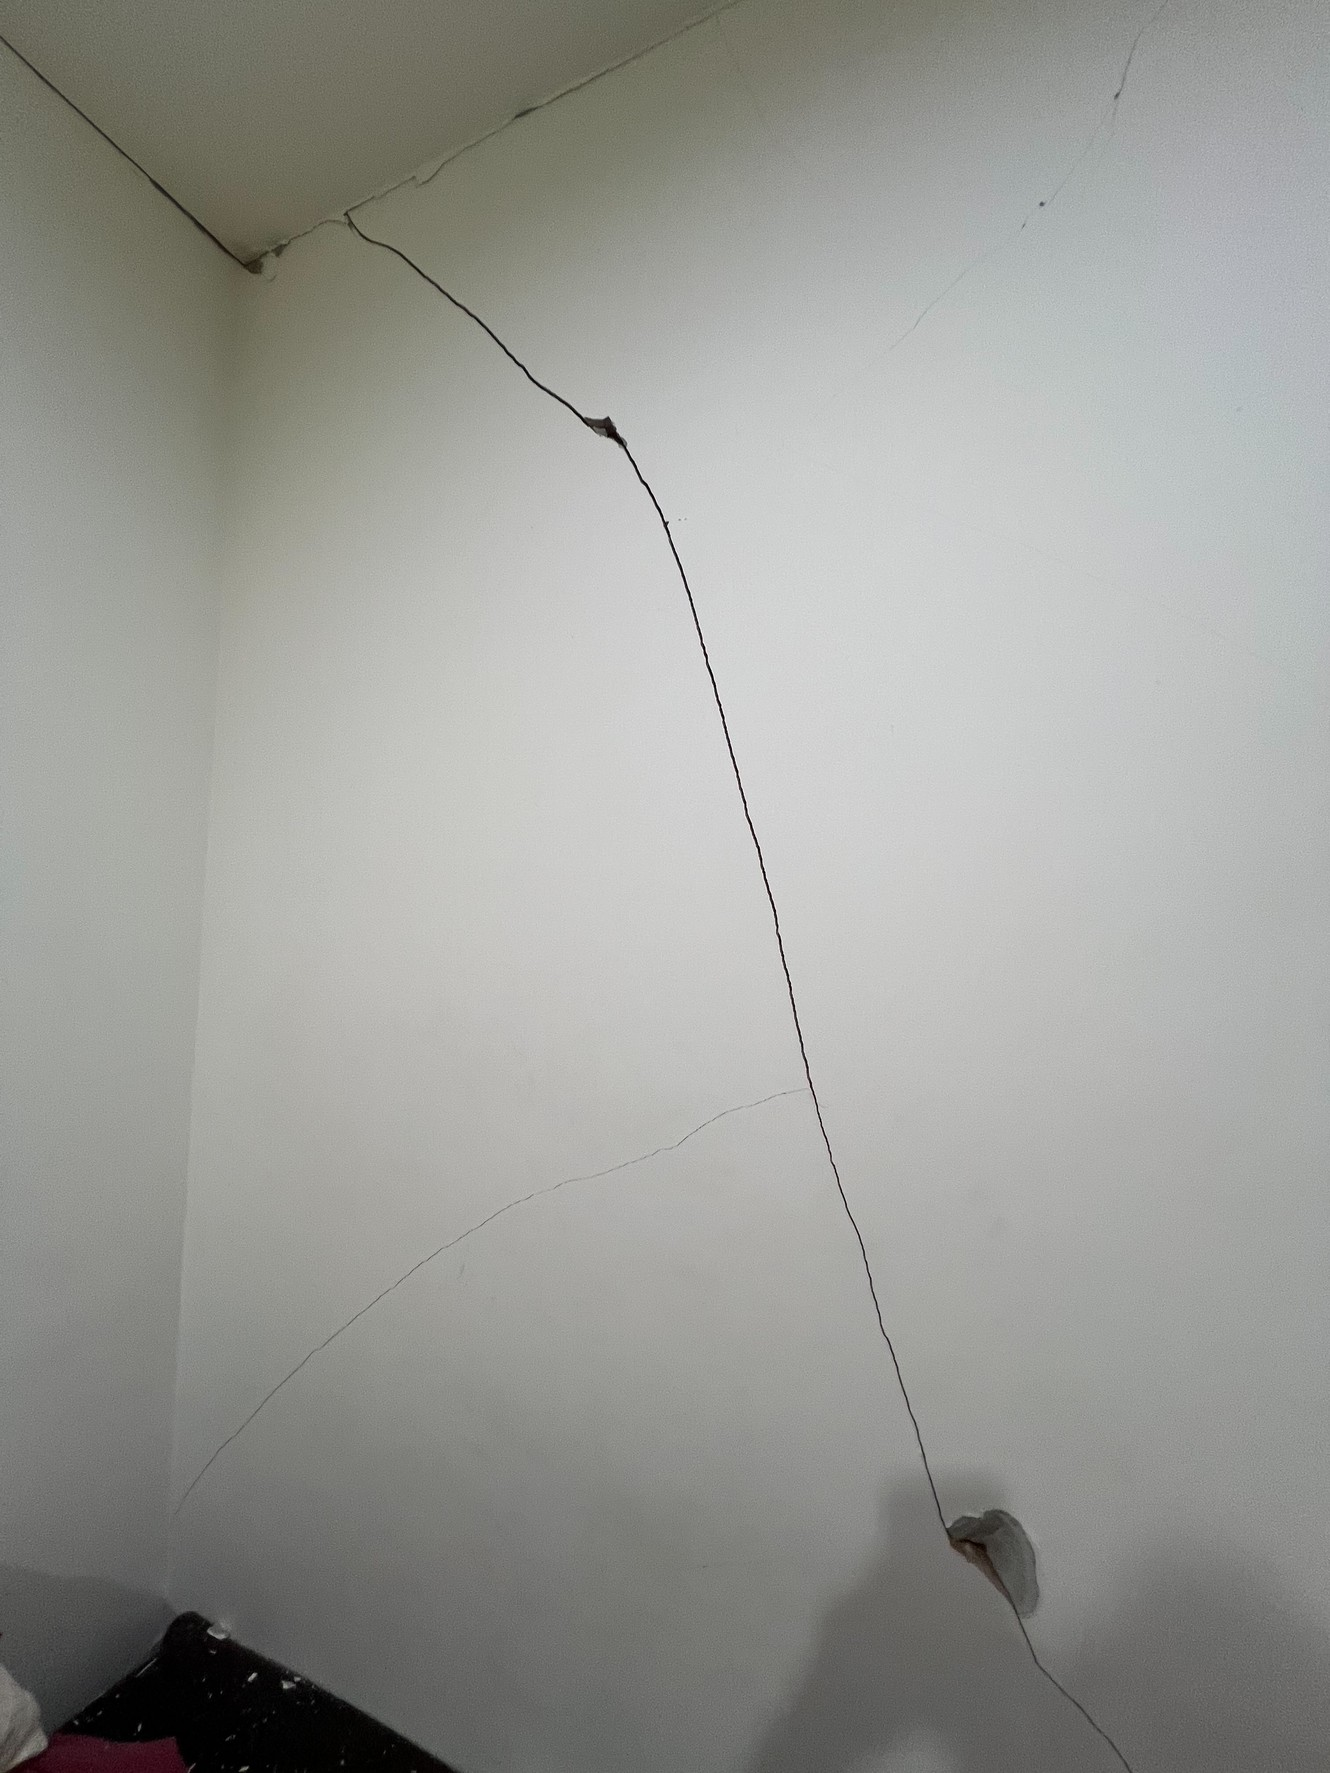Medium: (367, 238, 1006, 1425)
